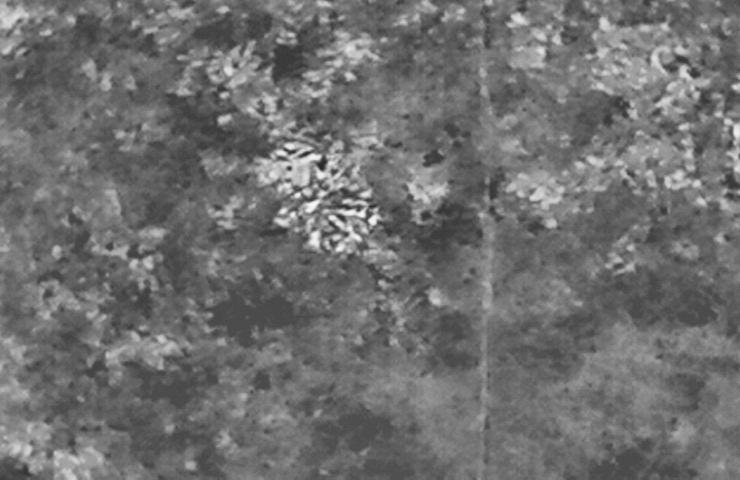landmines: (257, 136, 346, 210)
